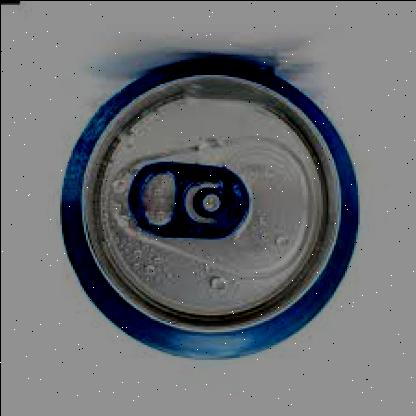Can: (57, 53, 363, 363)
